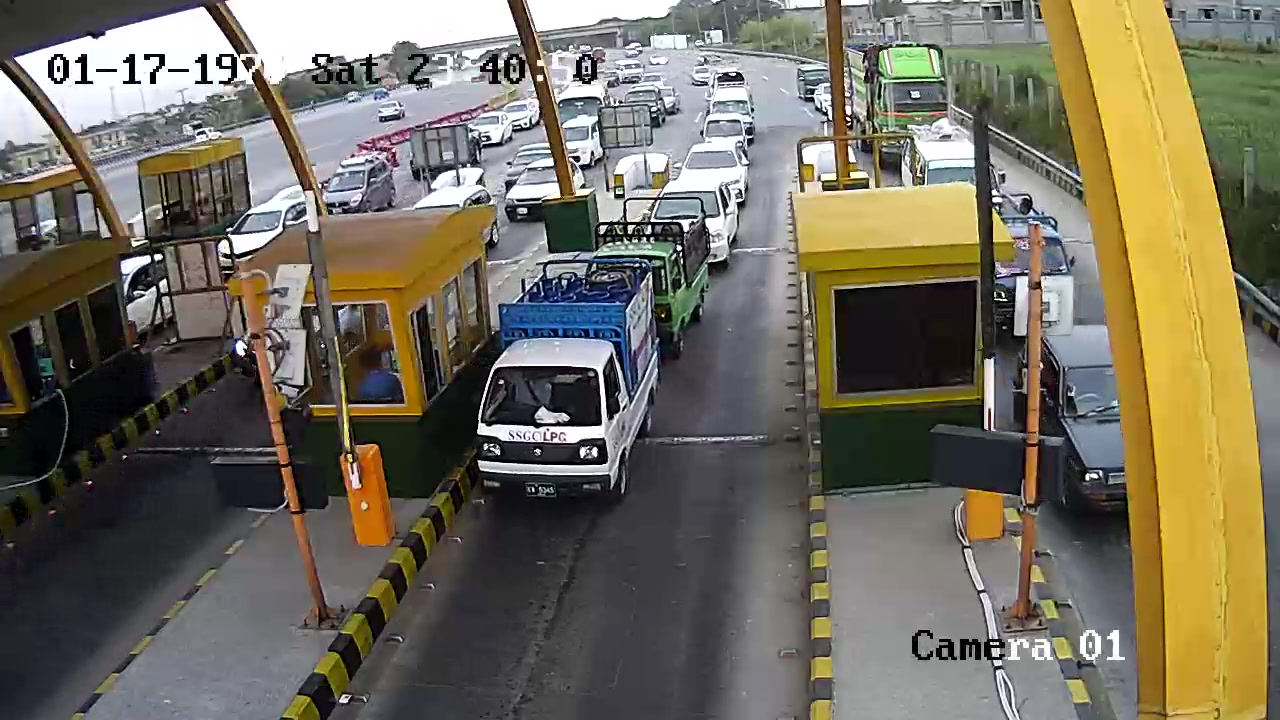F1: (466, 252, 662, 523)
